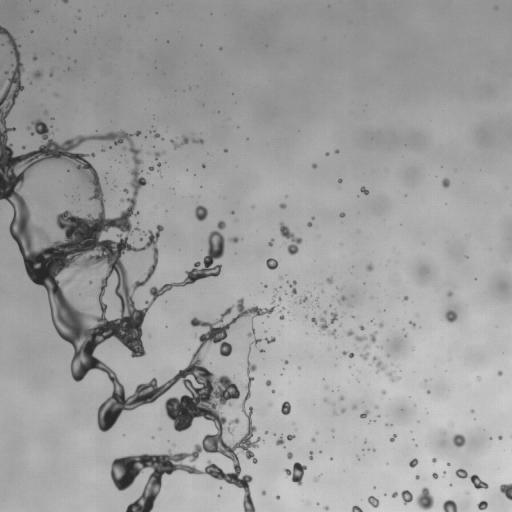droplet: (279, 222, 302, 255), (284, 462, 306, 485), (416, 487, 434, 510), (247, 328, 262, 347), (372, 356, 386, 372), (499, 483, 511, 500), (195, 205, 207, 221), (442, 499, 457, 511), (452, 434, 465, 447), (400, 490, 412, 504), (359, 344, 369, 360), (445, 310, 457, 322), (266, 258, 278, 269), (387, 371, 400, 381), (368, 496, 379, 507), (281, 401, 290, 414), (477, 500, 487, 511), (330, 311, 338, 323), (409, 458, 418, 467), (276, 435, 284, 445), (360, 186, 369, 194), (360, 410, 368, 418), (442, 178, 449, 187), (298, 296, 307, 303), (352, 505, 362, 511), (230, 236, 238, 243), (366, 263, 373, 271), (337, 296, 345, 303), (389, 434, 396, 442), (154, 152, 161, 159), (287, 434, 294, 440), (268, 238, 273, 246), (34, 71, 40, 77), (148, 166, 154, 172), (326, 277, 332, 283), (432, 473, 438, 479), (153, 132, 159, 137), (280, 203, 286, 208), (339, 212, 345, 217), (409, 321, 415, 326), (266, 380, 271, 386), (287, 452, 292, 458), (359, 325, 364, 330), (392, 492, 397, 497), (312, 163, 316, 168), (307, 222, 312, 226), (403, 296, 408, 300), (379, 322, 383, 327), (497, 371, 502, 375), (335, 149, 339, 153), (124, 188, 128, 192), (448, 292, 452, 296), (284, 360, 288, 364), (339, 396, 343, 400), (352, 405, 356, 409), (341, 408, 345, 412), (498, 435, 502, 439), (432, 458, 436, 462), (415, 475, 419, 479), (324, 506, 328, 510), (49, 71, 52, 76), (90, 153, 95, 156), (33, 56, 36, 60), (4, 71, 8, 74), (325, 152, 329, 155), (338, 179, 342, 182), (260, 349, 264, 352), (477, 376, 480, 380), (382, 390, 385, 394), (333, 410, 336, 414), (311, 438, 315, 441), (314, 477, 317, 481), (44, 111, 47, 114), (157, 163, 160, 166), (231, 211, 234, 214), (279, 276, 282, 279), (272, 389, 275, 392), (427, 390, 430, 393), (470, 409, 473, 412), (262, 491, 265, 494), (22, 146, 24, 149), (202, 165, 205, 167), (274, 289, 277, 291), (324, 398, 326, 401), (375, 405, 377, 408), (265, 431, 268, 433), (319, 450, 321, 453), (447, 462, 449, 465), (443, 471, 446, 473), (276, 496, 279, 498), (74, 30, 76, 32), (102, 149, 104, 151), (225, 150, 227, 152), (139, 238, 141, 240), (339, 287, 341, 289), (316, 298, 318, 300), (324, 311, 326, 313), (424, 380, 426, 382), (364, 440, 366, 442), (373, 449, 375, 451)
ligament: (0, 26, 281, 511), (455, 468, 488, 489), (311, 316, 336, 337), (346, 329, 377, 343), (171, 136, 189, 148), (289, 280, 296, 296), (264, 336, 275, 343), (342, 351, 353, 357), (279, 307, 284, 319), (192, 139, 203, 143), (0, 79, 4, 87), (309, 451, 313, 459), (386, 423, 392, 426), (62, 0, 68, 2)
